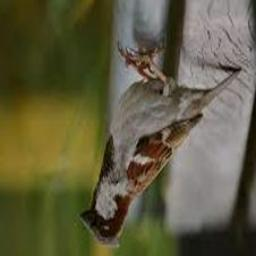Sparrow: (80, 41, 242, 247)
